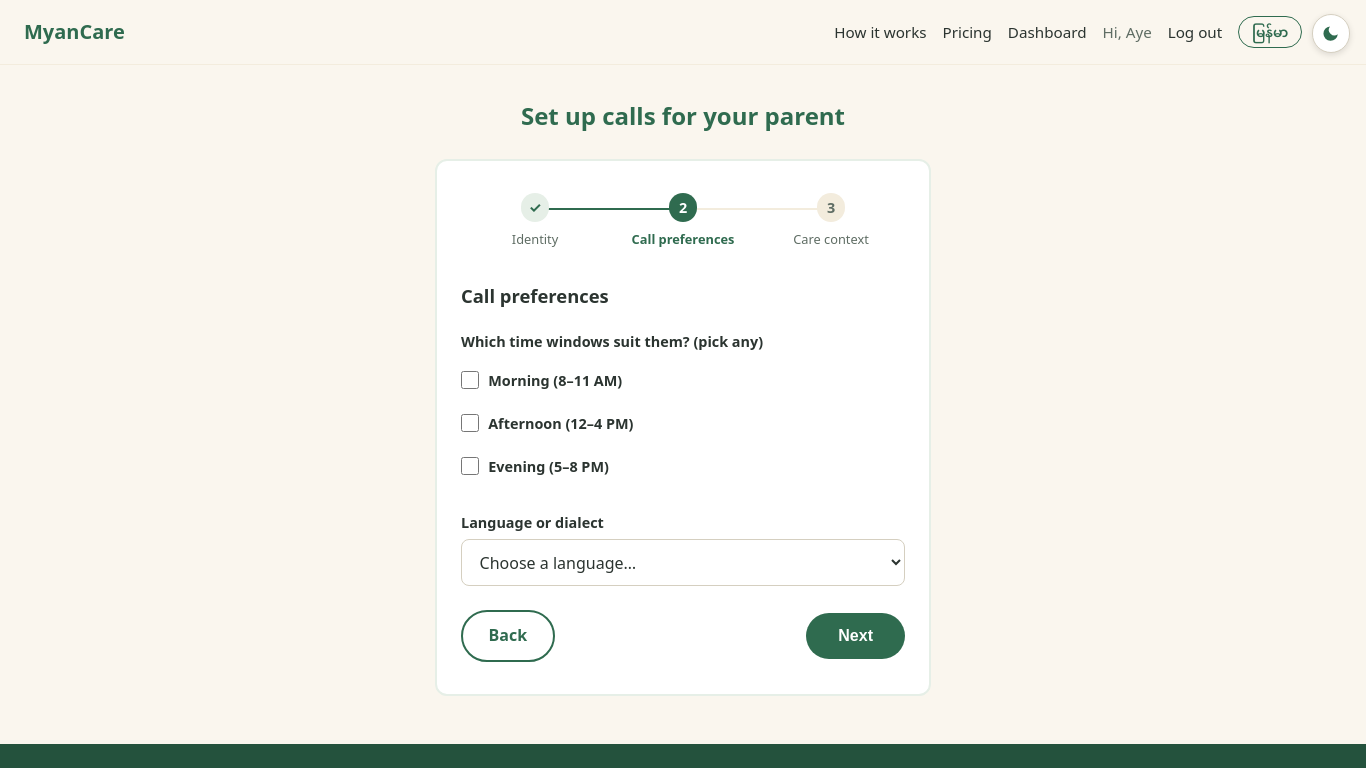
Test: onboarding wizard › Back returns to the previous step without losing data
Click the button "Back" at (508, 636), box [461,610,555,662]
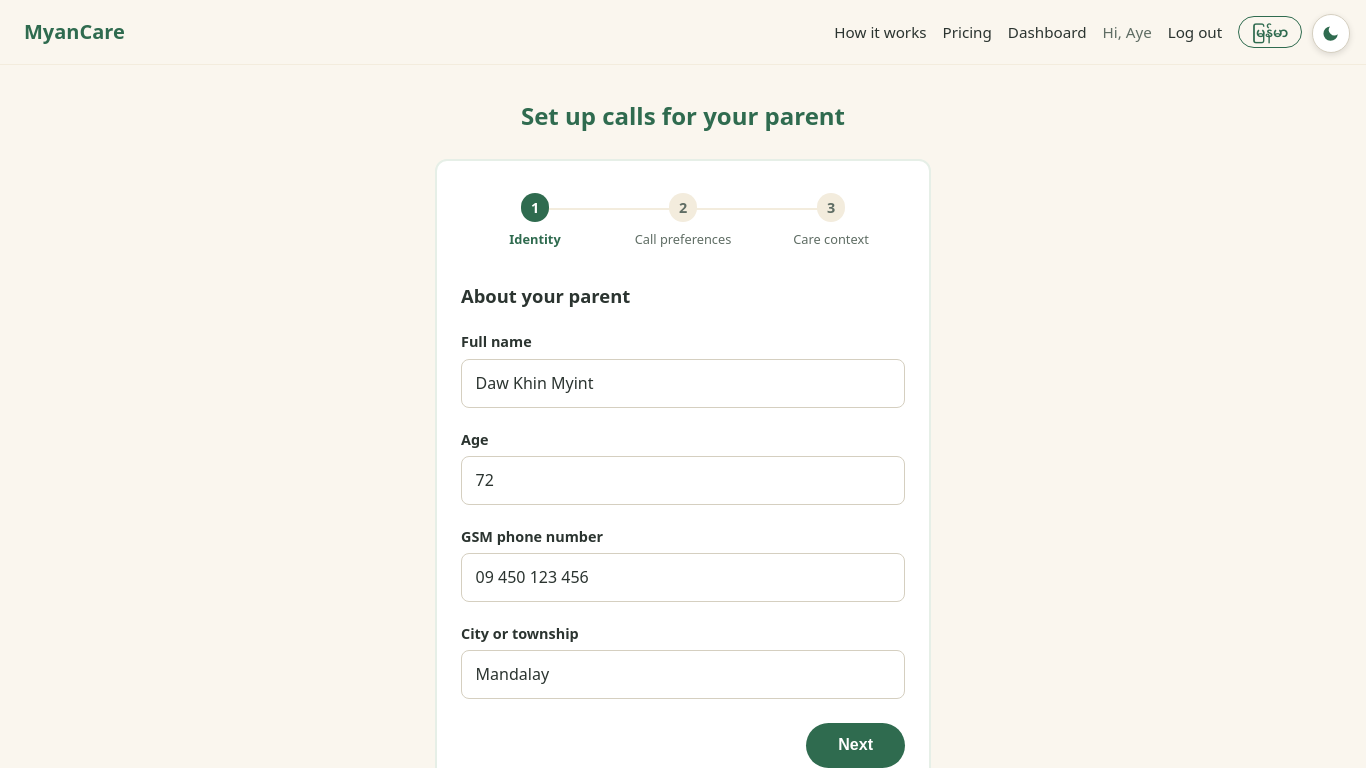
Expected: the heading "About your parent" is shown, [461,283,630,308]
Expected: the field labelled "Full name" holds "Daw Khin Myint", [461,359,905,408]
